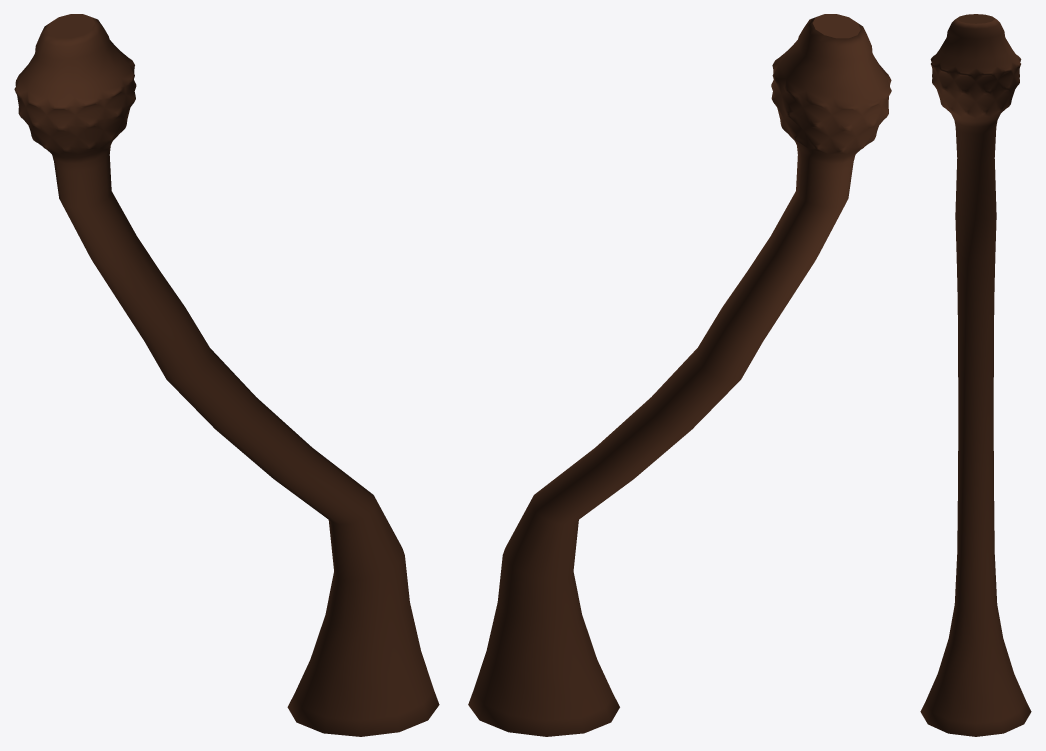
The model's file is PalmBent1.fbx.
3 views of the same model, side by side, from view 1: azimuth 30°, elevation 25°; view 2: azimuth 150°, elevation 25°; view 3: azimuth 270°, elevation 25° (orthographic). The views are drawn at different scales.
Visible parts, largest first — view 1: pCylinder15; view 2: pCylinder15; view 3: pCylinder15.
Boxes of the visible parts, x1=… form: pCylinder15: x1=14, y1=14, x2=439, y2=736; pCylinder15: x1=468, y1=14, x2=891, y2=736; pCylinder15: x1=920, y1=14, x2=1031, y2=736.
Size of the model in its own units: 1.88 by 3.33 by 0.5725.
